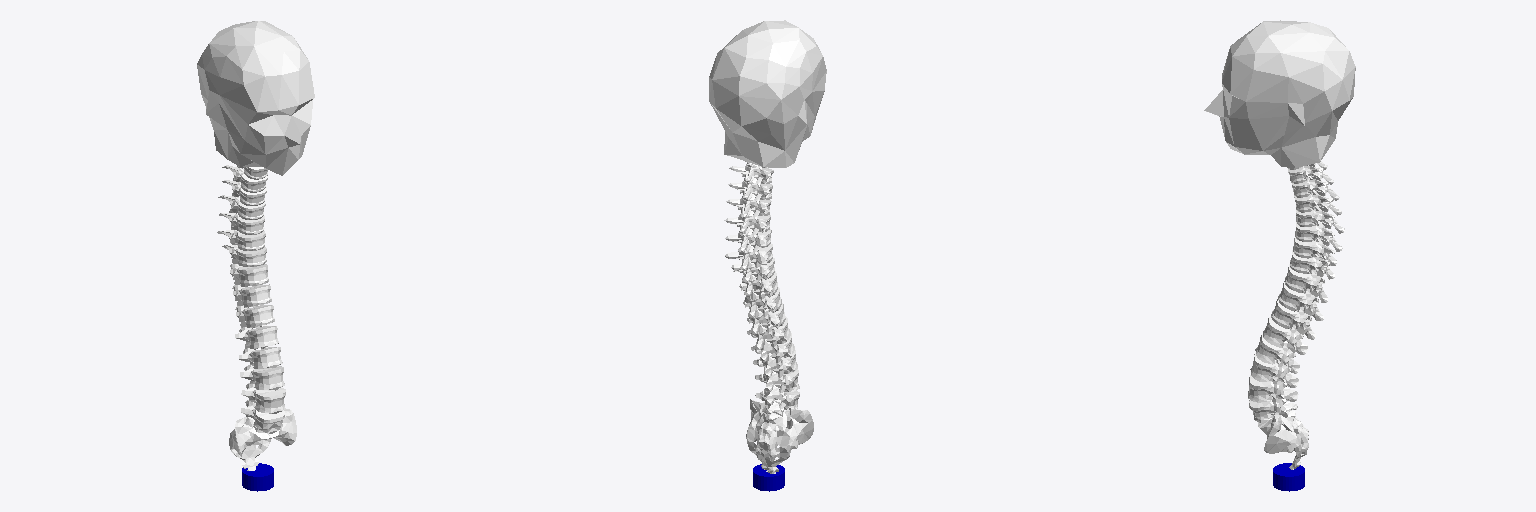
robot.urdf — /* robot_name */:
<?xml version="1.0"?>
<robot name="/* robot_name */">

  <material name="blue">
    <color rgba="0 0 0.8 1"/>
  </material>

  <material name="white">
    <color rgba="1 1 1 1"/>
  </material>

  <material name="green">
    <color rgba="0.5 1 0 1"/>
  </material>
  
  
  <!-- ___________________________IMU MARKERS!_______________________________________________________________-->

  <!--TORSO-->

  <link name="ground">
    <visual>
      <geometry>
        <box size="0.01 0.01 0.01"/>
      </geometry>
       <origin rpy="0 0 0" xyz="0 0 0"/>
      <material name="blue"/>
    </visual>
  </link>
  
  <link name="temp">
    <visual>
      <geometry>
        <cylinder length="0.2" radius="0.2"/>
      </geometry>
      <origin rpy="0 0 0" xyz="0 0 0"/>
      <material name="blue"/>
    </visual>
  </link>

  <link name="temp2">
    <visual>
      <geometry>
        <cylinder length="0.2" radius="0.2"/>
      </geometry>
      <origin rpy="0 0 0" xyz="0 0 0"/>
      <material name="blue"/>
    </visual>
  </link>

  <link name="spine">
    <visual>
      <geometry>
        <mesh filename="package://IMU_ADQ_pck/urdf/mesh/tlspine.STL" scale="0.008 0.008 0.008"/>
      </geometry>
      <origin rpy="1.54 0 -1.54 " xyz="0.35 0.7 0"/>
      <material name="white"/>
    </visual>
  </link>

  <joint name="pitch_sp" type="continuous">
    <parent link="ground"/>
    <child link="temp"/>
    <axis xyz="-1.0 0.0 0"/>
    <origin xyz="0 0 -2.4"/>
  </joint>

  <joint name="yaw_sp" type="continuous">
    <parent link="temp"/>
    <child link="temp2"/>
    <axis xyz="0.0 -1.0 0.0"/>
    <origin xyz="0 0 0"/>
  </joint>

  <joint name="roll_sp" type="continuous">
    <parent link="temp2"/>
    <child link="spine"/>
    <axis xyz="0.0 0.0 -1.0"/>
    <origin xyz="0 0 0"/>
  </joint>

  <!--HEAD-->
  <link name="temp1_1">
    <visual>
      <geometry>
        <cylinder length="0.2" radius="0.2"/>
      </geometry>
      <material name="blue"/>
    </visual>
  </link>

  <link name="temp1_2">
    <visual>
      <geometry>
        <cylinder length="0.2" radius="0.2"/>
      </geometry>
      <material name="blue"/>
    </visual>
  </link>
   
  <link name="head">
    <visual>
      <origin xyz="0 0 1.15" rpy="0 0 0"/>
      <geometry>
        <mesh filename="package://IMU_ADQ_pck/urdf/mesh/human-head-simplified.dae" scale="0.008 0.008 0.008"/>
      </geometry>
      <origin rpy="0 0 0" xyz="0 0 0.3"/>
      <material name="white"/>
    </visual>
  </link>
  

  
 <joint name="pitch_hd" type="continuous">
    <parent link="spine"/>
    <child link="temp1_1"/>
    <axis xyz="-1.0 0.0 0.0"/>
    <origin xyz="0 0 4.88"/>
  </joint>


  <joint name="yaw_hd" type="continuous">
    <parent link="temp1_1"/>
    <child link="temp1_2"/>
    <axis xyz="0.0 -1.0 0.0"/>
    <origin xyz="0 0 0"/>
  </joint>


  <joint name="roll_hd" type="continuous">
    <parent link="temp1_2"/>
    <child link="head"/>
    <origin xyz="0 0 0"/>
    <axis xyz="0.0 0.0 -1.0"/>
  </joint>


  <!-- ___________________________REFERENCE PART!_______________________________________________________________-->
<!--TORSO-->

  <link name="spine_ref">
    <visual>
      <geometry>
        <mesh filename="package://IMU_ADQ_pck/urdf/mesh/tlspine.STL" scale="0.008 0.008 0.008"/>
      </geometry>
      <origin rpy="1.54 0 -1.54 " xyz="0.35 0.7 0"/>
      <material name="green"/>
    </visual>
  </link>

  <joint name="spine_attch" type="fixed">
    <parent link="ground"/>
    <child link="spine_ref"/>
    <origin xyz="0 0 -2.4"/>
  </joint>


  <!--HEAD-->
  <link name="temp1_1_ref">
    <visual>
      <geometry>
        <cylinder length="0.2" radius="0.2"/>
      </geometry>
      <material name="blue"/>
    </visual>
  </link>

  <link name="temp1_2_ref">
    <visual>
      <geometry>
        <cylinder length="0.2" radius="0.2"/>
      </geometry>
      <material name="blue"/>
    </visual>
  </link>
   
  <link name="head_ref">
    <visual>
      <origin xyz="0 0 1.15" rpy="0 0 0"/>
      <geometry>
        <mesh filename="package://IMU_ADQ_pck/urdf/mesh/human-head-simplified.dae" scale="0.008 0.008 0.008"/>
      </geometry>
      <origin rpy="0 0 0" xyz="0 0 0.3"/>
      <material name="green"/>
    </visual>
  </link>
  

  
 <joint name="pitch_ref" type="continuous">
    <parent link="spine_ref"/>
    <child link="temp1_1_ref"/>
    <axis xyz="1.0 0.0 0.0"/>
    <origin xyz="0 0 4.88"/>
  </joint>


  <joint name="yaw_ref" type="continuous">
    <parent link="temp1_1_ref"/>
    <child link="temp1_2_ref"/>
    <axis xyz="0.0 -1.0 0.0"/>
    <origin xyz="0 0 0"/>
  </joint>


  <joint name="roll_ref" type="continuous">
    <parent link="temp1_2_ref"/>
    <child link="head_ref"/>
    <origin xyz="0 0 0"/>
    <axis xyz="0.0 0.0 -1.0"/>
  </joint>
</robot>

--- What the picture shows (computed from the rendered views, not written in the file) ---
The picture shows the robot from 3 angles, left to right: view 1: azimuth 30°, elevation 25°; view 2: azimuth 150°, elevation 25°; view 3: azimuth 270°, elevation 25°; orthographic projection.
Model /* robot_name */ with 11 links and 10 joints (9 continuous, 1 fixed), rooted at ground, posed all joints at 0.
Links seen in each view (by area): view 1: head, spine, temp; view 2: head, spine, temp; view 3: head, spine, temp.
Link boxes in pixels (x1=…): head: x1=197, y1=21, x2=314, y2=175; spine: x1=217, y1=165, x2=296, y2=470; temp: x1=242, y1=463, x2=273, y2=491; head: x1=709, y1=20, x2=826, y2=167; spine: x1=724, y1=161, x2=813, y2=473; temp: x1=753, y1=464, x2=784, y2=491; head: x1=1204, y1=20, x2=1355, y2=167; spine: x1=1248, y1=161, x2=1344, y2=469; temp: x1=1273, y1=463, x2=1304, y2=491.
Size in the robot's own frame: 1.31 by 1.86 by 6.24 metres.
Meshes: 2 distinct files referenced, 4 mesh visuals loaded (1 binary STL, 1 Collada DAE).